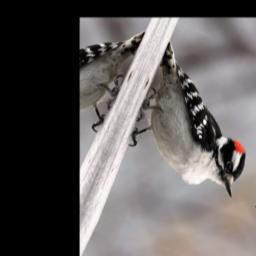Woodpecker: (117, 41, 256, 202)
